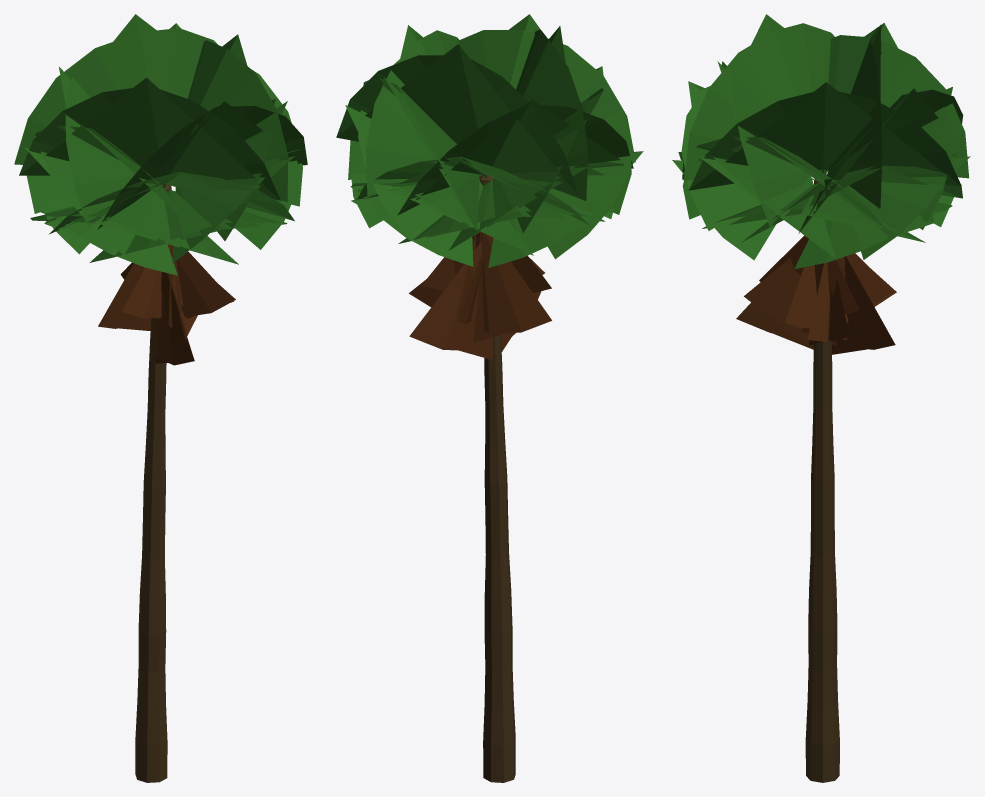
File: palm_a.glb
3 renders of one model, left to right at view 1: azimuth 30°, elevation 25°; view 2: azimuth 150°, elevation 25°; view 3: azimuth 270°, elevation 25°, orthographic. The views are drawn at different scales.
Parts seen in each view (by area): view 1: Palm_Palmyra_A; view 2: Palm_Palmyra_A; view 3: Palm_Palmyra_A.
Boxes of the visible parts, x1,y1,x2,y2 form: Palm_Palmyra_A: (14,14,307,782); Palm_Palmyra_A: (336,14,643,782); Palm_Palmyra_A: (672,14,970,782).
Bounding box in the file's own units: 6.3 × 17.74 × 6.34.
1 material, 1 textured.
